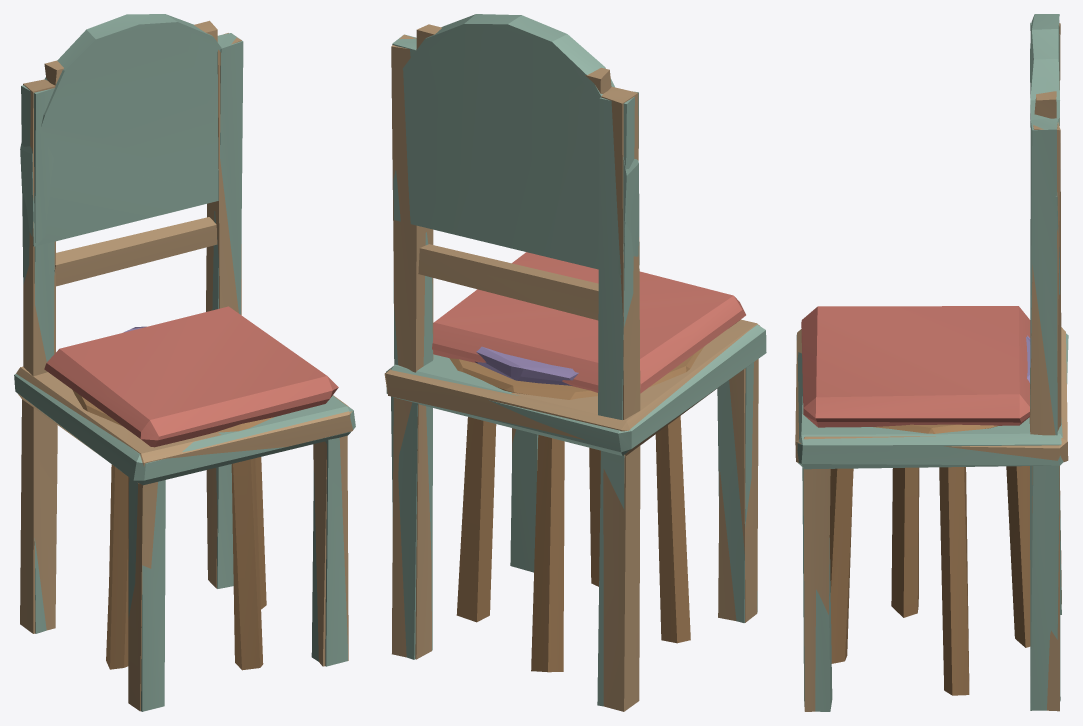
Rendered from chair.glb.
3 renders of one model, left to right at view 1: azimuth 30°, elevation 25°; view 2: azimuth 150°, elevation 25°; view 3: azimuth 270°, elevation 25°, orthographic. The views are drawn at different scales.
Parts seen in each view (by area): view 1: chair.v1.mesh, chair.v0.mesh, chair.v2.mesh; view 2: chair.v1.mesh, chair.v0.mesh, chair.v2.mesh; view 3: chair.v1.mesh, chair.v2.mesh, chair.v0.mesh.
Boxes of the visible parts, x1,y1,x2,y2 form: chair.v1.mesh: [14, 14, 355, 711]; chair.v0.mesh: [16, 20, 352, 711]; chair.v2.mesh: [72, 326, 273, 670]; chair.v1.mesh: [386, 14, 766, 706]; chair.v0.mesh: [384, 24, 759, 711]; chair.v2.mesh: [449, 346, 703, 672]; chair.v1.mesh: [796, 14, 1068, 711]; chair.v2.mesh: [829, 335, 1030, 695]; chair.v0.mesh: [795, 23, 1068, 711].
Bounding box in the file's own units: 0.407 × 1.03 × 0.4053.
